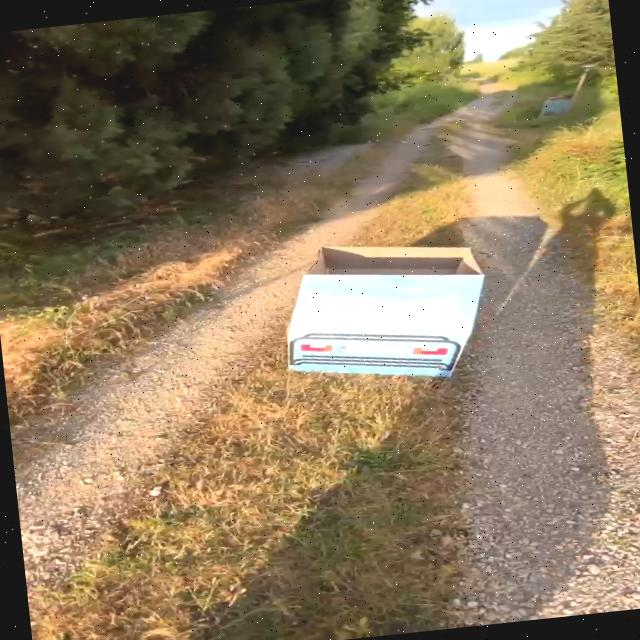blue_car: (233, 211, 520, 416)
